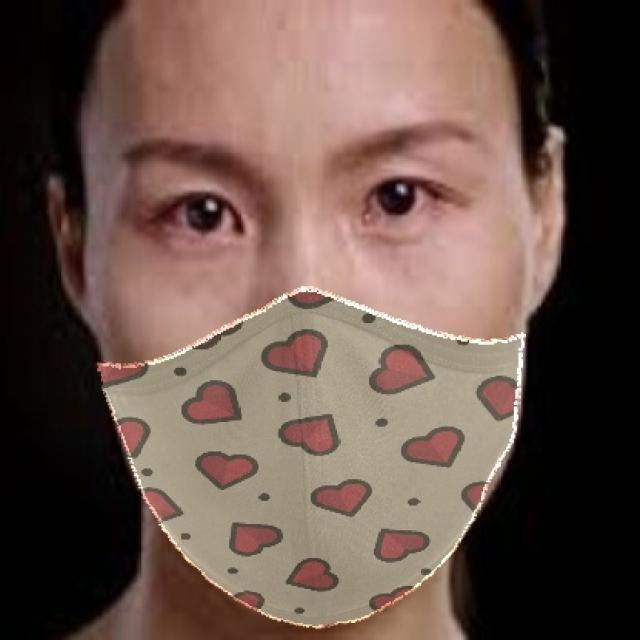mask: (73, 301, 564, 628)
